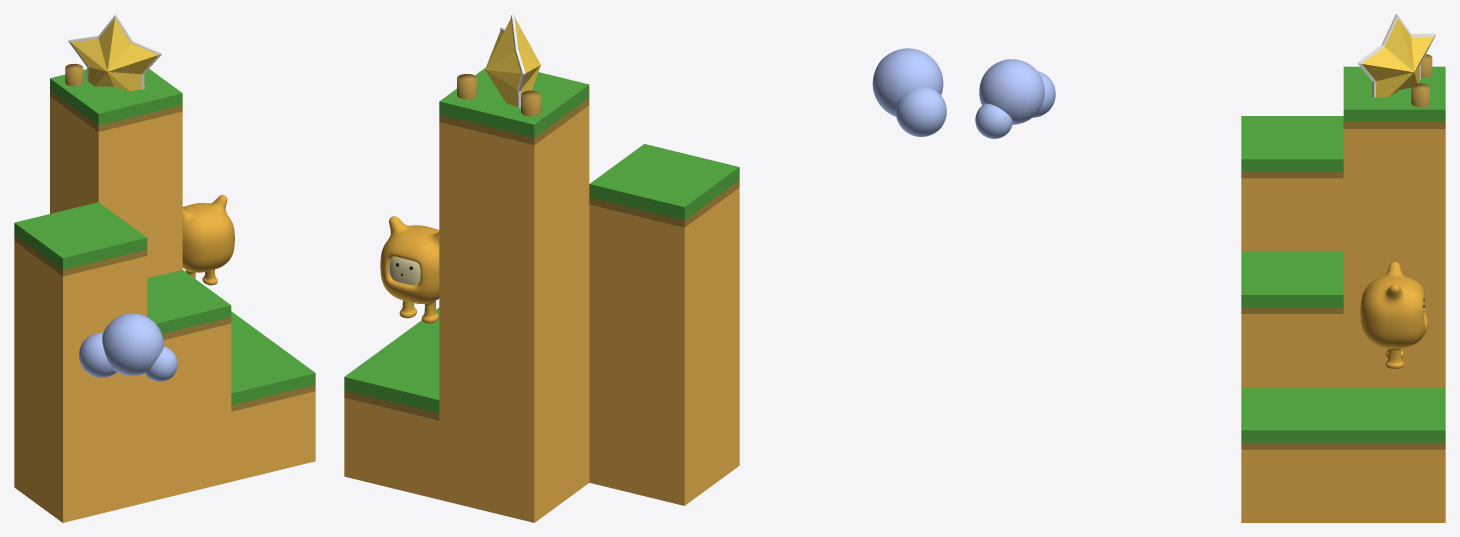
Rendered from World001.fbx.
3 views of the same model, side by side, from view 1: azimuth 30°, elevation 25°; view 2: azimuth 150°, elevation 25°; view 3: azimuth 270°, elevation 25° (orthographic). The views are drawn at different scales.
Visible parts, largest first — view 1: Ground.004, Ground.001, Cube.004, Ground.002, Ground.003, Cube.005, Cube.003, Cube.002, Cloud, Star, Player, Ground (+1 smaller); view 2: Ground.004, Ground.001, Cube, Cube.001, Cube.002, Cube.004, Cube.005, Ground, Cloud, Player, Star, Ground.002; view 3: Ground.003, Ground, Ground.002, Ground.004, Ground.001, Cube.002, Cube.001, Player, Cloud, Star.
Boxes of the visible parts, x1,y1,x2,y2 form: Ground.004: (14, 202, 147, 346); Ground.001: (50, 69, 182, 201); Cube.004: (14, 399, 147, 522); Ground.002: (231, 337, 315, 481); Ground.003: (147, 270, 231, 413); Cube.005: (14, 311, 147, 434); Cube.003: (147, 394, 231, 502); Cube.002: (50, 167, 182, 278); Cloud: (79, 313, 177, 381); Star: (68, 14, 162, 91); Player: (182, 195, 234, 285); Ground: (231, 311, 266, 345); Ground.004: (589, 144, 739, 306); Ground.001: (439, 67, 589, 224); Cube: (439, 383, 589, 522); Cube.001: (439, 284, 589, 423); Cube.002: (439, 184, 589, 323); Cube.004: (589, 366, 739, 505); Cube.005: (589, 267, 739, 406); Ground: (344, 337, 439, 499); Cloud: (872, 48, 946, 136); Player: (380, 216, 439, 323); Star: (485, 14, 540, 107); Ground.002: (399, 307, 439, 346); Ground.003: (1241, 251, 1343, 387); Ground: (1343, 387, 1445, 522); Ground.002: (1241, 387, 1343, 522); Ground.004: (1241, 116, 1343, 251); Ground.001: (1343, 66, 1445, 202); Cube.002: (1343, 202, 1445, 294); Cube.001: (1343, 295, 1445, 387); Player: (1360, 261, 1427, 368); Cloud: (975, 59, 1055, 138); Star: (1357, 14, 1435, 97).
Size of what is drawn, in the model's own units: 396 by 480 by 461.
